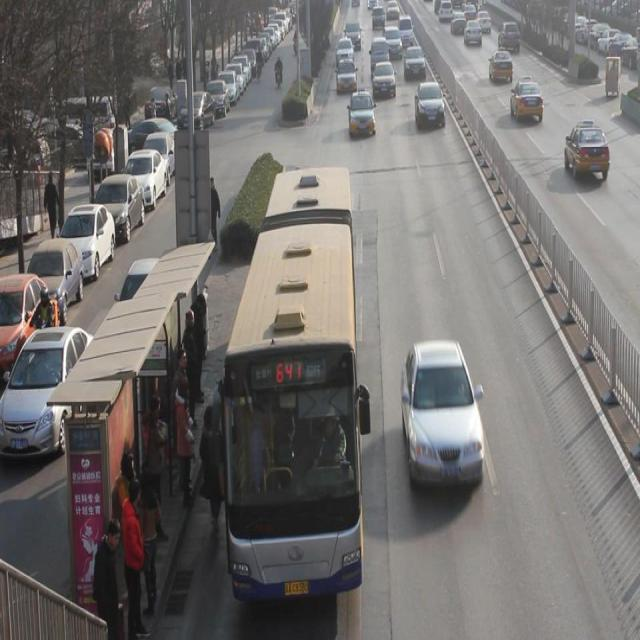car: (400, 341, 484, 490), (565, 120, 610, 184), (509, 76, 544, 125), (414, 82, 446, 130), (349, 89, 376, 139), (488, 49, 513, 84), (373, 62, 396, 100), (404, 46, 427, 82), (498, 22, 521, 54), (336, 59, 357, 94), (383, 26, 403, 57), (337, 39, 354, 61)
truck: (370, 38, 389, 76)
van: (227, 168, 363, 598)
